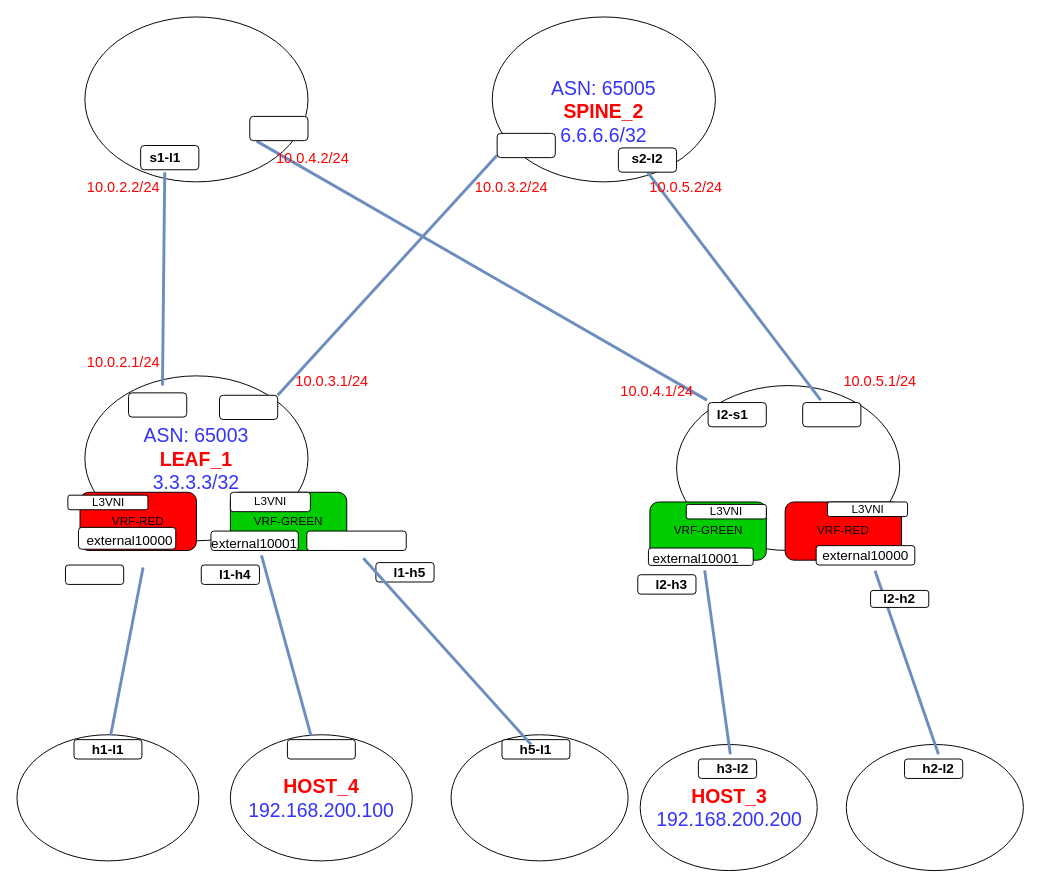
This 1041x888 diagram has some shape labels left out. Each missing label, with the box of its shape:
ASN: 65004 LEAF_2 4.4.4.4/32: (676, 385, 900, 550)
ASN: 65005 SPINE_1 5.5.5.5/32: (84, 16, 308, 182)
external10002: (306, 530, 406, 550)
h4-l1: (286, 739, 355, 759)
HOST_1 192.168.100.100: (16, 734, 199, 861)
HOST_2 192.168.100.200: (845, 744, 1023, 871)
HOST_5 192.168.250.100: (450, 734, 628, 861)
l1- h1: (65, 564, 124, 584)
l1-s1: (128, 392, 187, 417)
l1-s2: (219, 394, 278, 420)
l2- s2: (802, 402, 861, 427)
s1-l2: (249, 115, 308, 141)
s2-l1: (496, 132, 555, 158)
